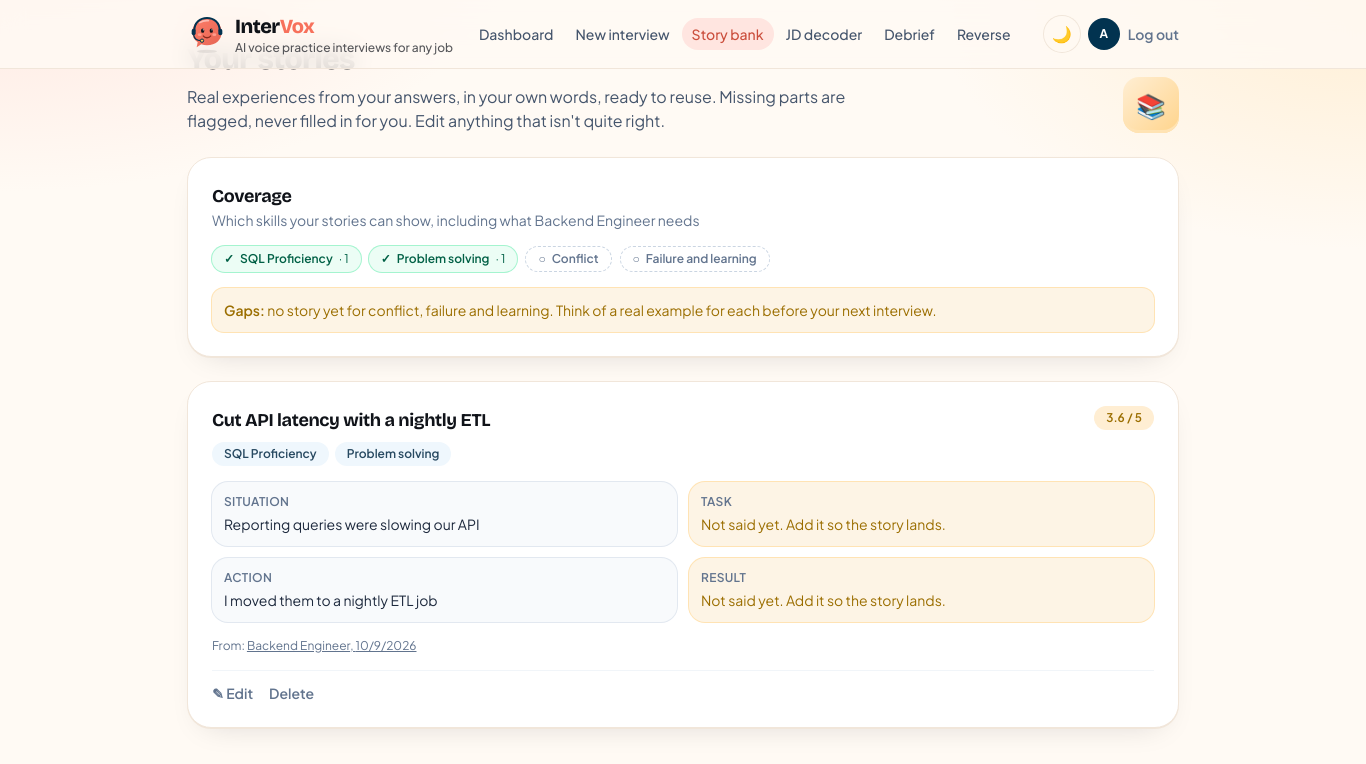
story bank › edits a story
(page scrolled)
Click the button "✎ Edit": (233, 693) [212,683,253,703]
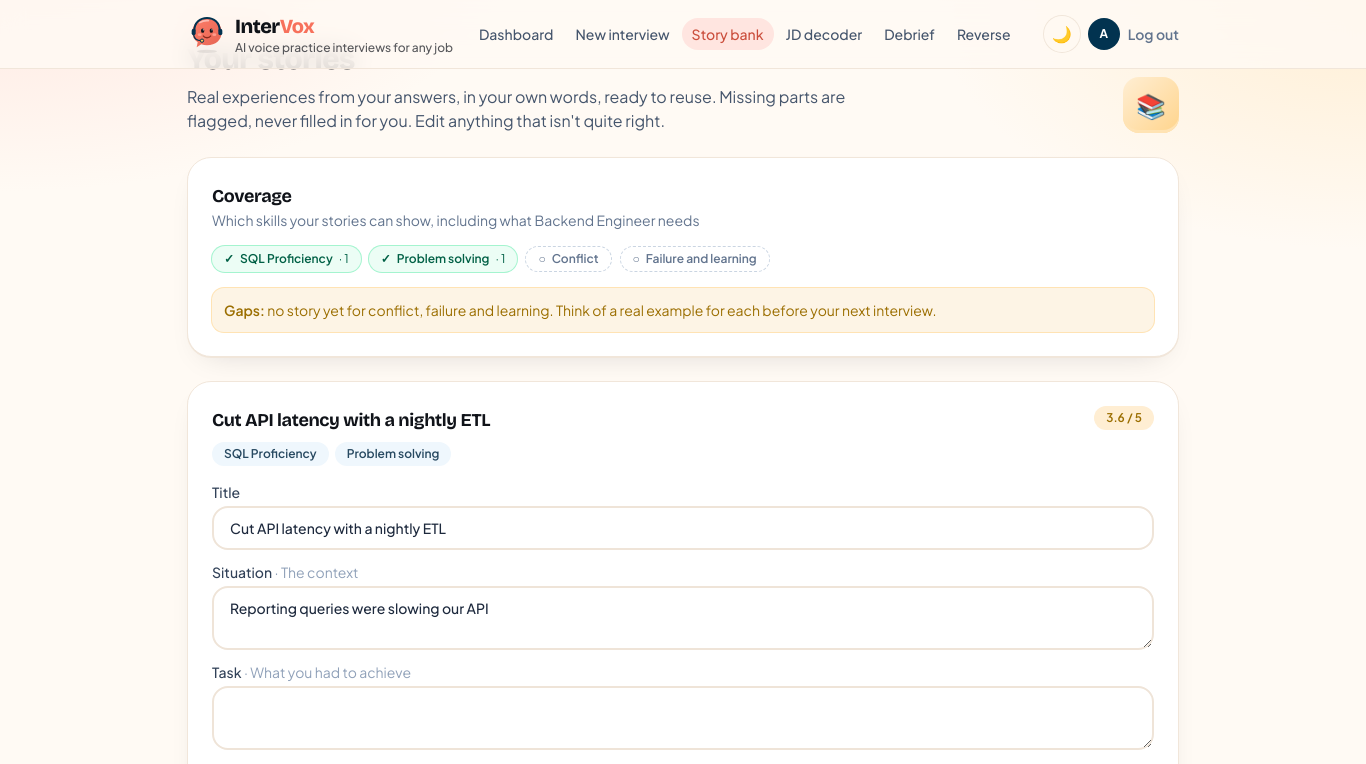
Replace the text in the field labelled "Title" with "My ETL story": (683, 528) [212,506,1154,550]
(page scrolled)
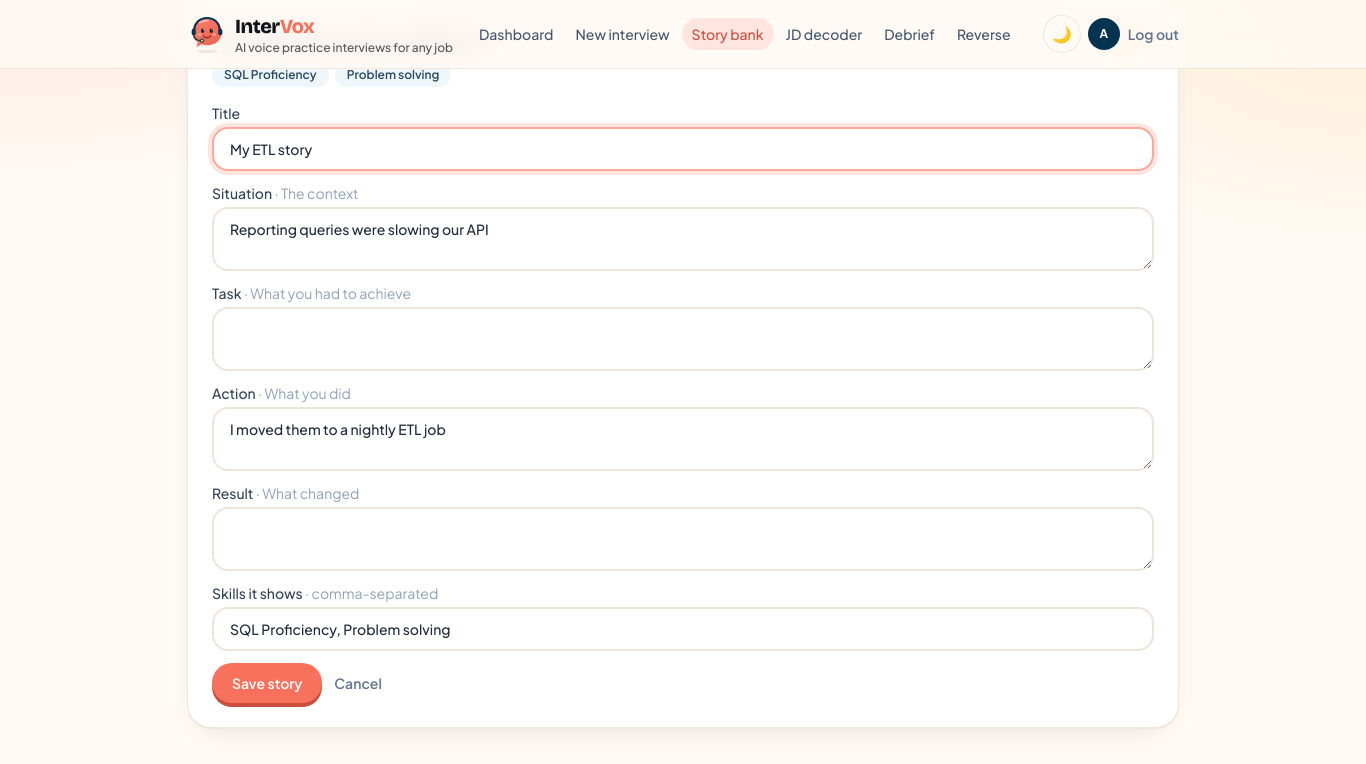
In the text box labelled "Result · What changed": (683, 539) [212,507,1154,571], type "Latency fell to 300 ms."
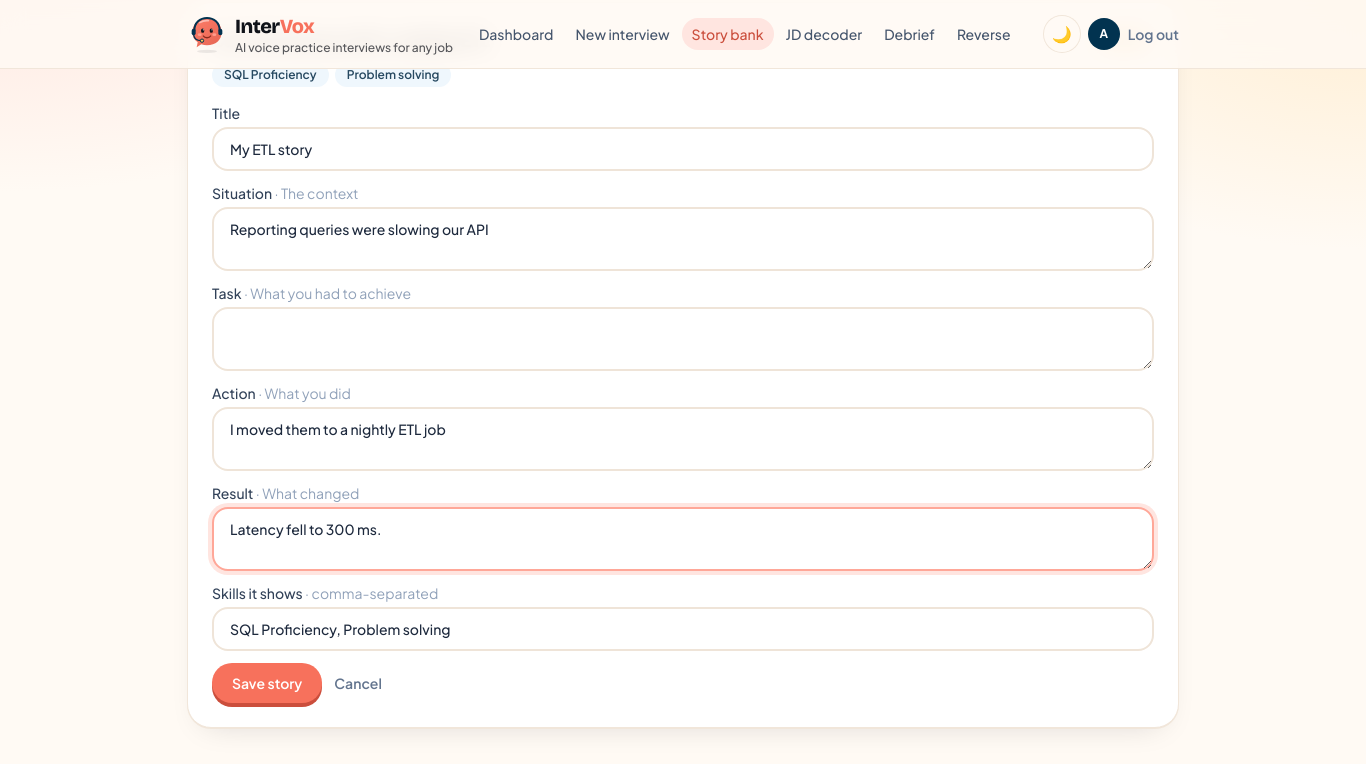
Click the button "Save story": (267, 683) [212,663,322,703]
(page scrolled)
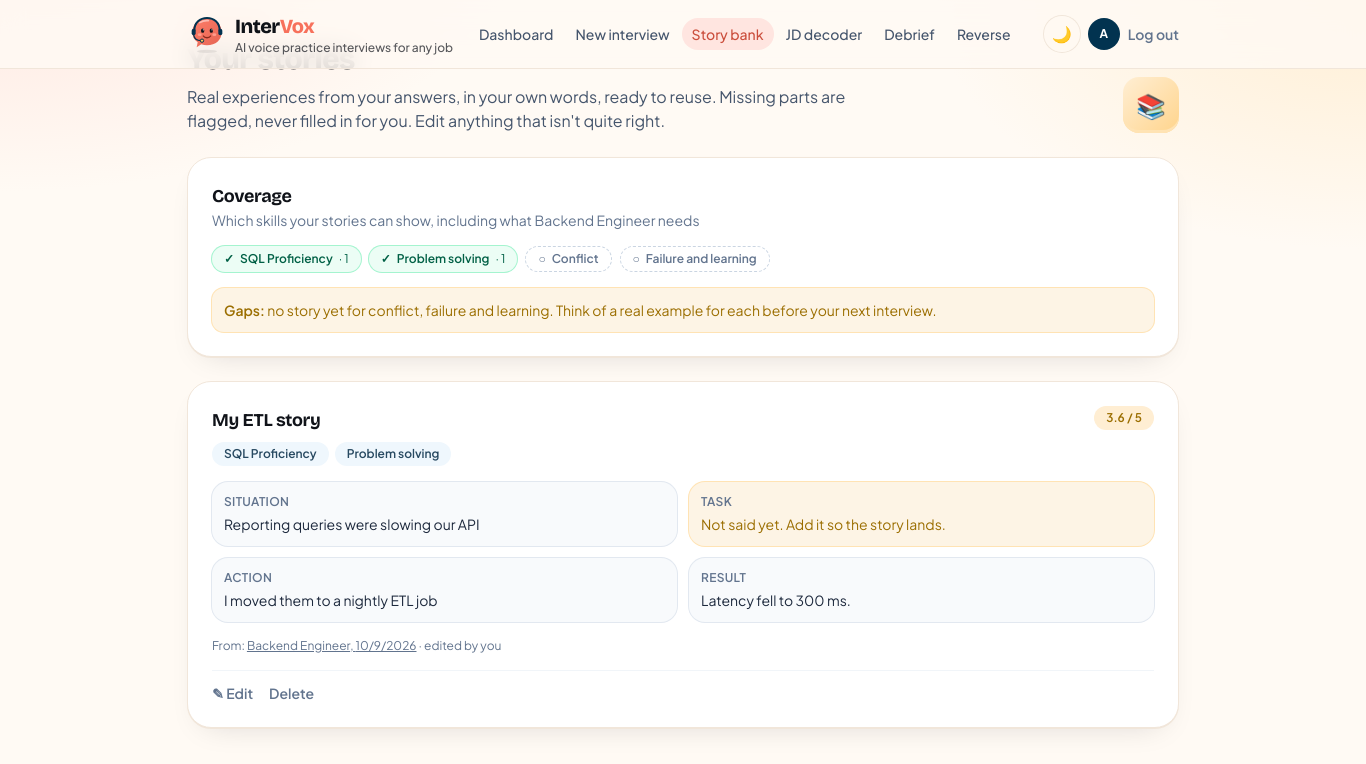
Now the heading "My ETL story" is shown, box [212,409,320,431]
Now the text "Latency fell to 300 ms." is shown, box [701,591,851,609]
